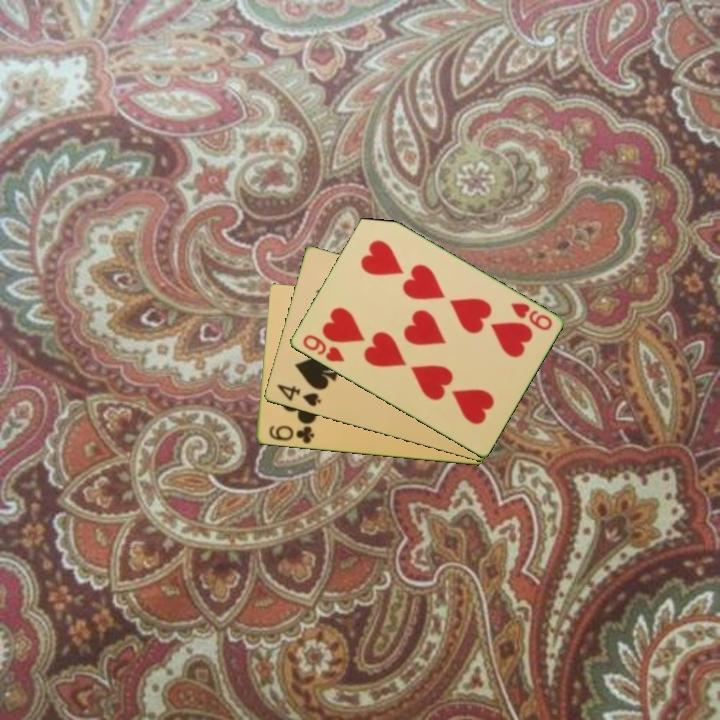4s: (273, 381, 324, 410)
6c: (265, 422, 317, 447)
9h: (507, 299, 555, 334), (299, 331, 347, 365)
